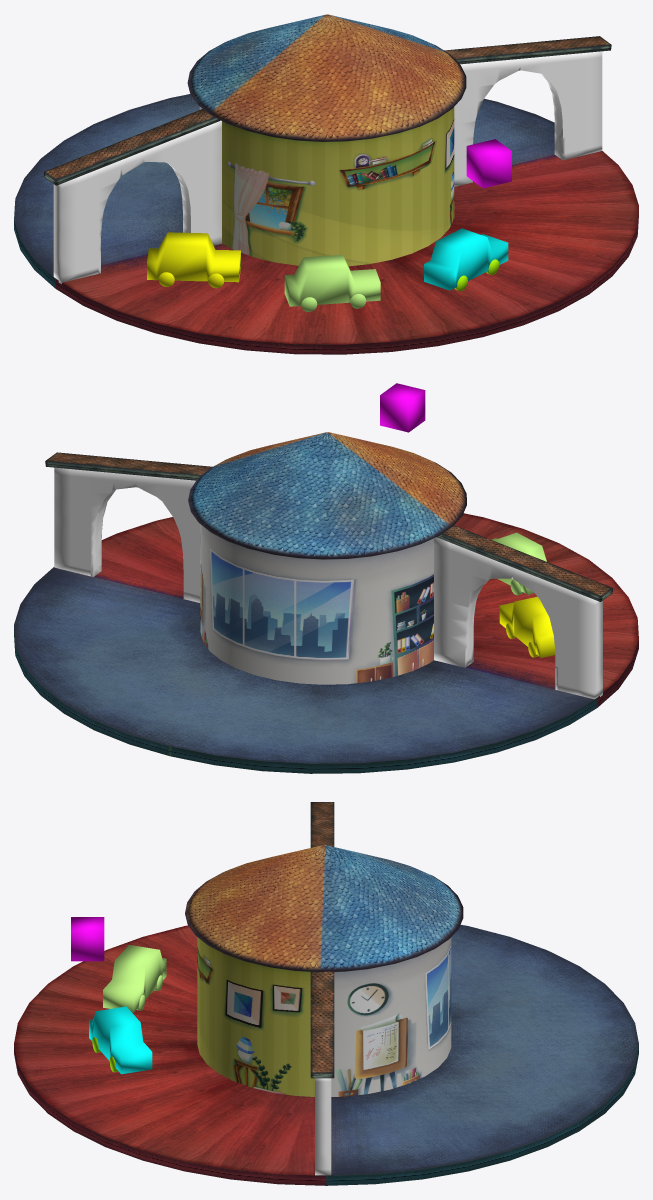
The model's file is Set_anim_Test_10 Bake_anim GLB.glb.
3 views of the same model, one above another, from view 1: azimuth 30°, elevation 25°; view 2: azimuth 150°, elevation 25°; view 3: azimuth 270°, elevation 25° (orthographic).
Visible parts, largest first — view 1: Set_2, Set_4, Set_1, Set_3, Car1, Car2, Car_1, pCube1; view 2: Set_2, Set_4, Set_1, Set_3, Car2, pCube1, Car1; view 3: Set_2, Set_4, Set_3, Car1, Car_1, Set_1, pCube1.
Boxes of the visible parts, x1,y1,x2,y2 form: Set_2: (14,94,638,354); Set_4: (187,14,466,266); Set_1: (53,51,602,284); Set_3: (43,36,611,185); Car1: (284,255,380,311); Car2: (147,232,240,288); Car_1: (424,228,508,290); pCube1: (466,139,511,188); Set_2: (14,513,638,773); Set_4: (188,432,466,684); Set_1: (54,467,602,699); Set_3: (45,452,613,601); Car2: (499,596,555,657); pCube1: (380,383,425,432); Car1: (491,532,546,595); Set_2: (14,924,638,1185); Set_4: (185,844,463,1096); Set_3: (310,802,334,1078); Car1: (103,945,166,1012); Car_1: (89,1006,152,1074); Set_1: (315,1078,331,1175); pCube1: (71,917,104,961).
Size of the model in its own units: 173 by 63.36 by 168.
9 materials, 3 textured.
